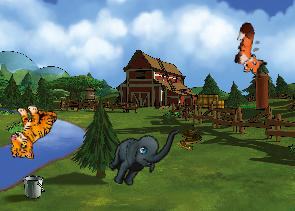elephant: (104, 113, 179, 197)
fox: (229, 21, 274, 79)
tiger: (8, 103, 57, 160)
